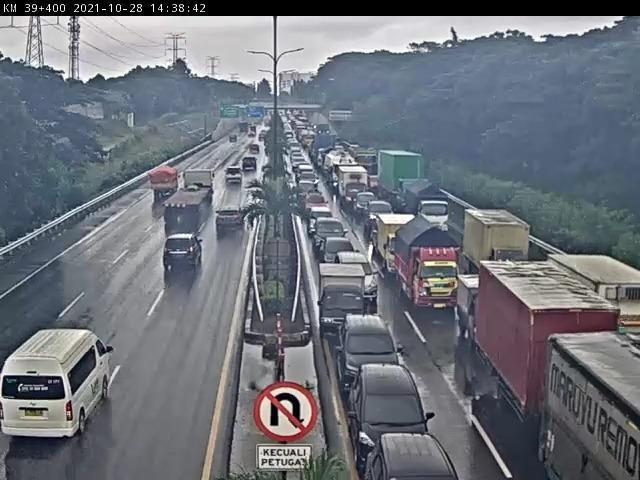car: (350, 361, 434, 457), (334, 314, 406, 398), (360, 432, 460, 480), (156, 171, 212, 229), (336, 251, 379, 301), (152, 241, 196, 285), (312, 216, 348, 254), (321, 236, 359, 272), (212, 214, 244, 244), (366, 200, 394, 234), (300, 188, 328, 220), (306, 204, 334, 236), (355, 191, 375, 217), (223, 169, 247, 189), (239, 156, 257, 174)
truck: (478, 258, 618, 446), (392, 213, 461, 310), (460, 204, 526, 284), (458, 276, 510, 350), (316, 263, 366, 337), (378, 148, 424, 210), (400, 176, 448, 232), (380, 213, 420, 275), (338, 164, 369, 206), (148, 164, 176, 196)
